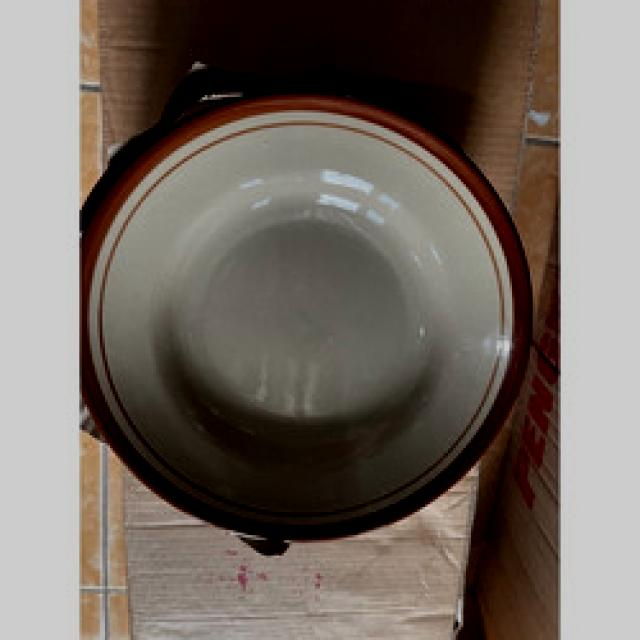Piring: (82, 68, 534, 567)
